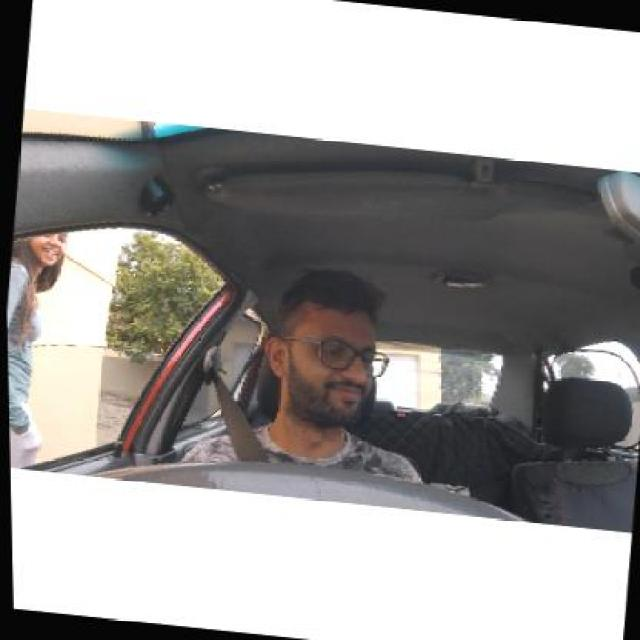person: (268, 280, 382, 421)
